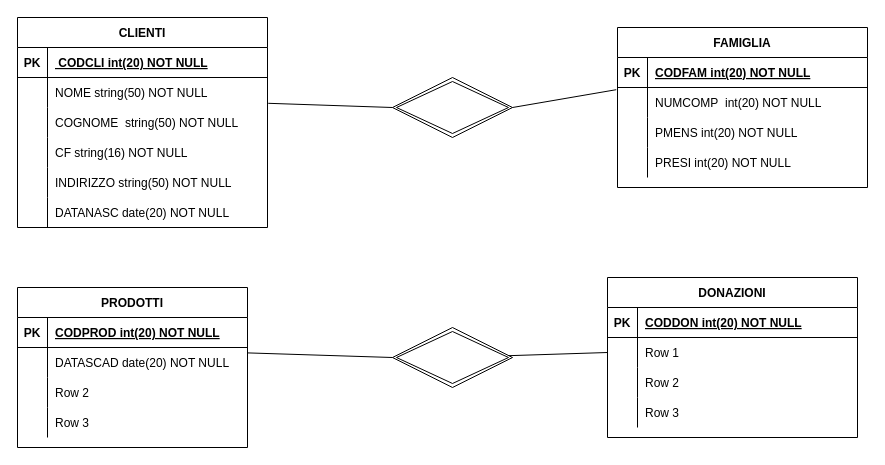
Image size: 885x465. Some labels were removed from this diagram. Each missing label, with the centre of its shape:
"APPARTIENE" goes at (x=452, y=107).
"Relationship" goes at (x=452, y=357).
